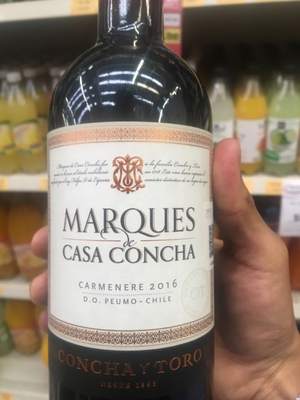marques de casa concha carmenere: (40, 32, 213, 400)
